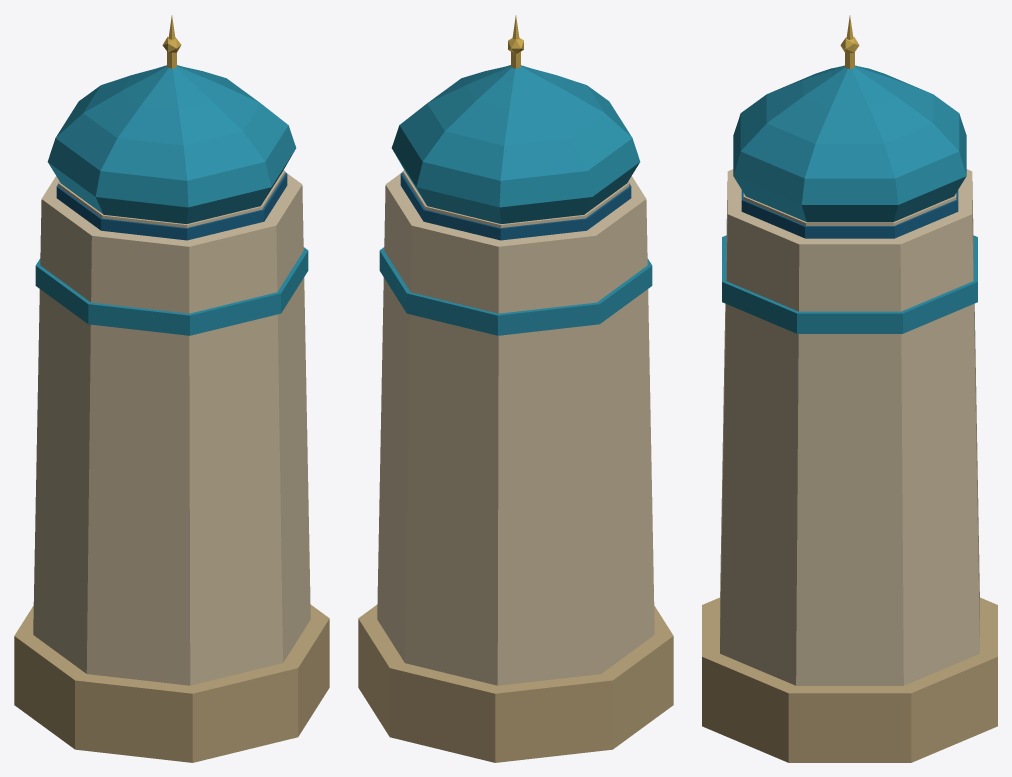
Rendered from wall_t3_post.glb.
3 views of the same model, side by side, from view 1: azimuth 30°, elevation 25°; view 2: azimuth 150°, elevation 25°; view 3: azimuth 270°, elevation 25° (orthographic).
Parts seen in each view (by area): view 1: body; view 2: body; view 3: body.
Boxes of the visible parts, <box> form: body: <box>14,15,329,762</box>; body: <box>358,15,673,762</box>; body: <box>702,15,997,762</box>.
Bounding box in the file's own units: 0.9239 × 2.37 × 0.9239.
